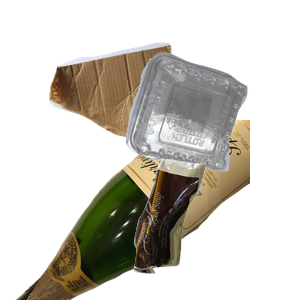cardboard: (46, 40, 226, 179)
glass: (13, 120, 253, 300)
plastic: (123, 50, 300, 214)
trash: (131, 157, 300, 300)
